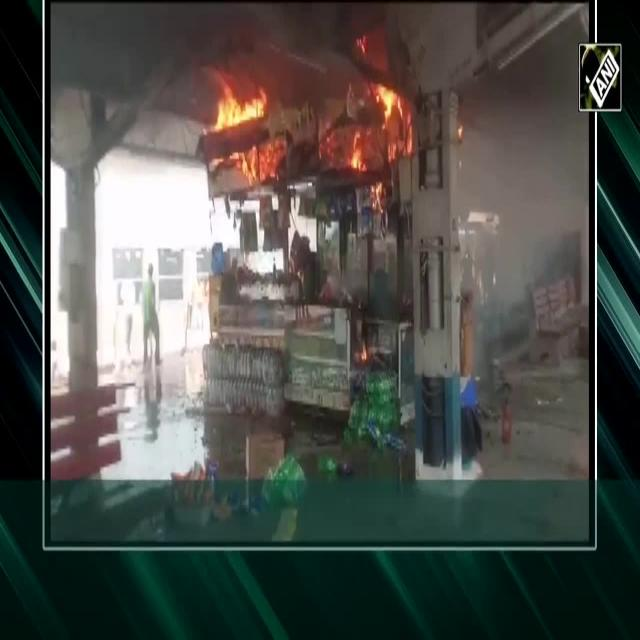fire: (212, 88, 282, 191), (351, 88, 414, 173)
